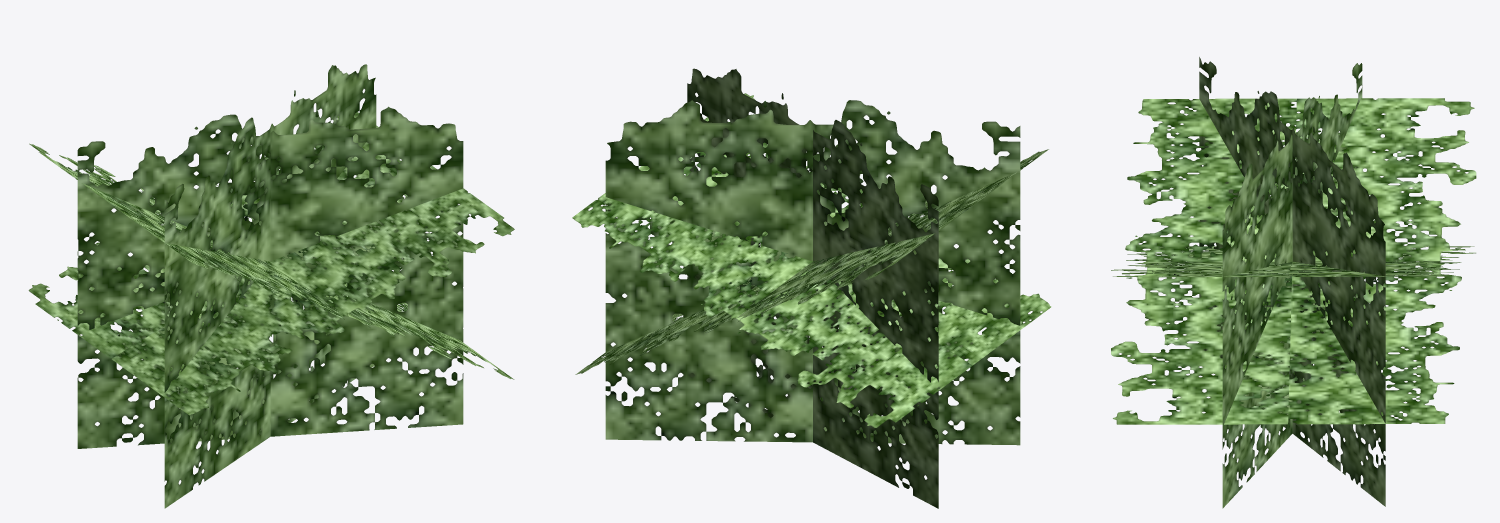
Rendered from bush_full_overgrown_summer.fbx.
3 renders of one model, left to right at view 1: azimuth 30°, elevation 25°; view 2: azimuth 150°, elevation 25°; view 3: azimuth 270°, elevation 25°, orthographic. The views are drawn at different scales.
Parts seen in each view (by area): view 1: bush_full_overgrown_summer; view 2: bush_full_overgrown_summer; view 3: bush_full_overgrown_summer.
Part boxes in pixels (left/top/right/bottom): bush_full_overgrown_summer: left=28, top=64, right=514, bottom=508; bush_full_overgrown_summer: left=572, top=68, right=1051, bottom=508; bush_full_overgrown_summer: left=1111, top=57, right=1476, bottom=508.
Size of the model in its own units: 100 by 106 by 108.
1 material, 1 textured.
